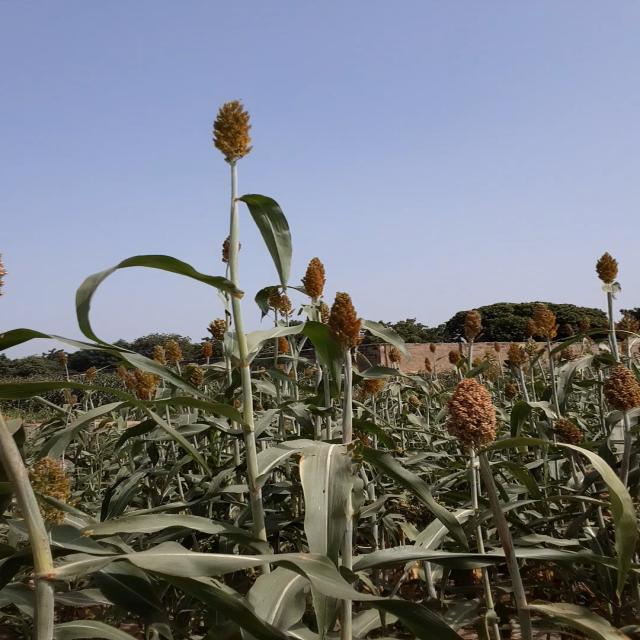UnripeSorghum: (6, 454, 86, 534), (439, 377, 513, 452)
